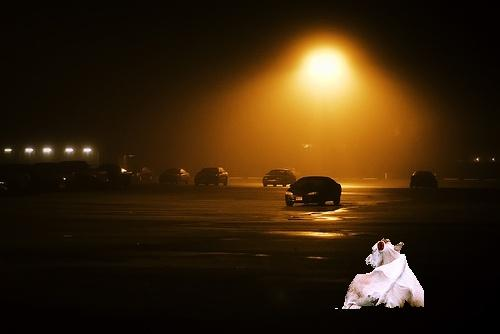tampered: (336, 239, 424, 309)
